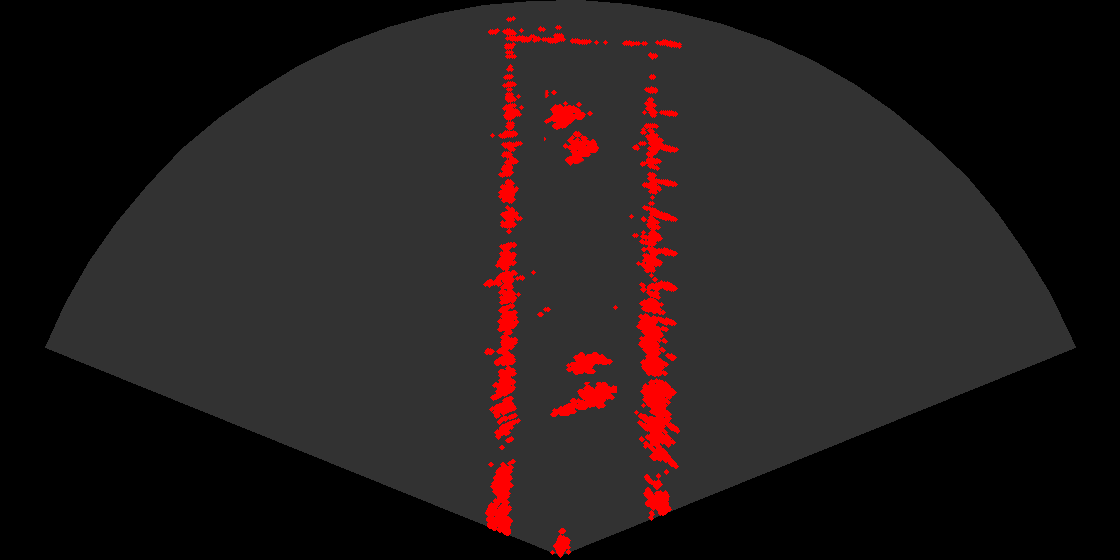AUV: (560, 350, 616, 382)
cage: (544, 90, 607, 174)
frogman: (549, 374, 617, 421)
